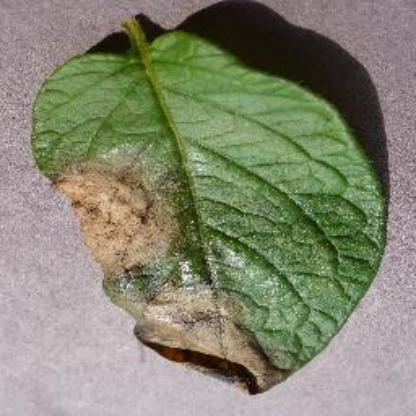Late-Blight: (26, 18, 392, 396)
